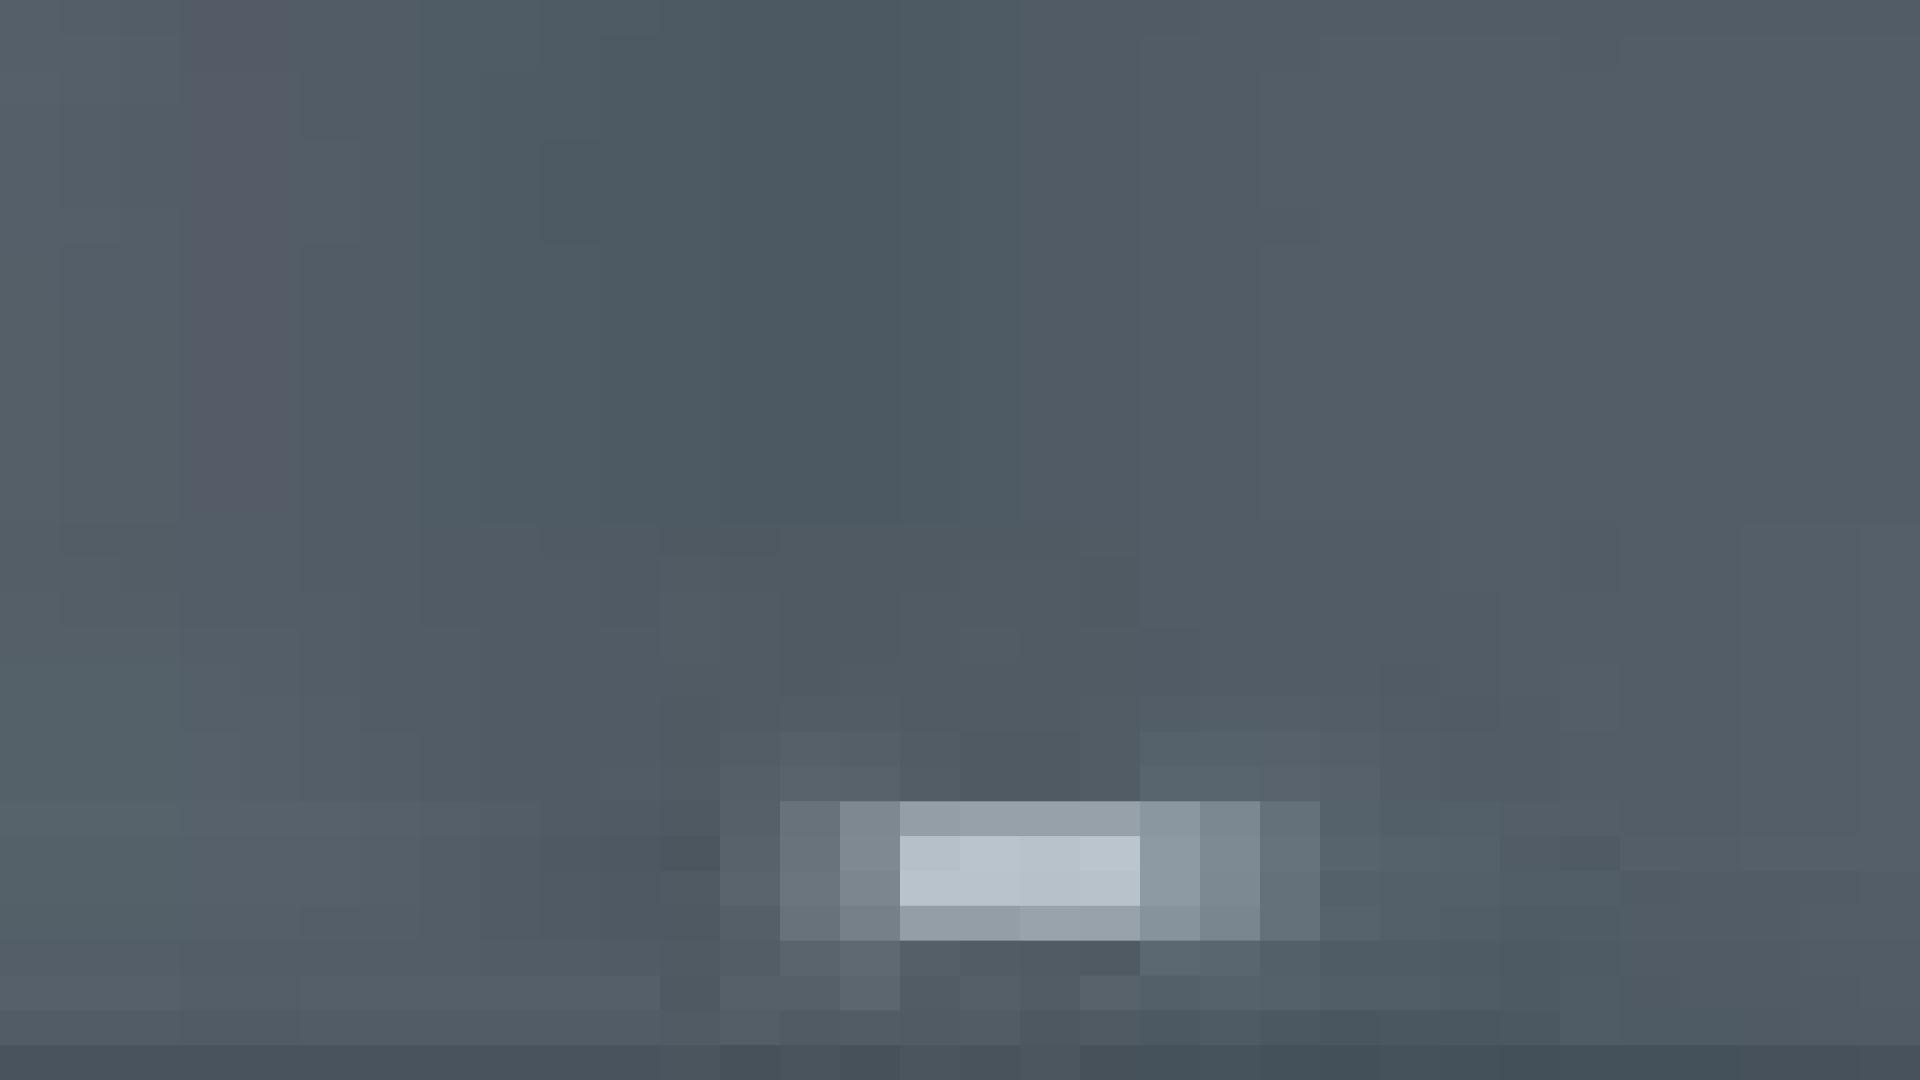Squash-Ball: (0, 36, 1920, 1080)
